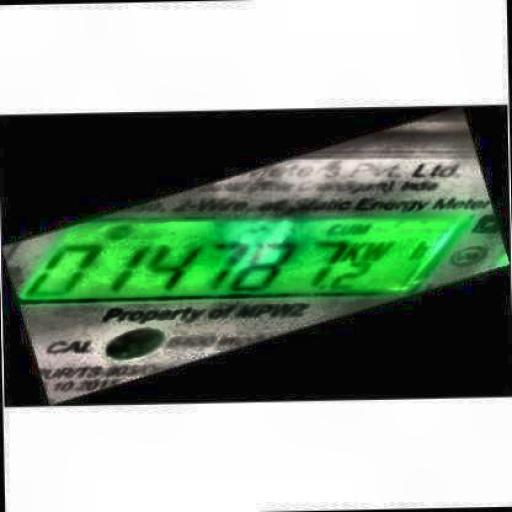DISPLAY_REGION: (14, 211, 471, 300)
SERIAL_REGION: (21, 231, 397, 296)
